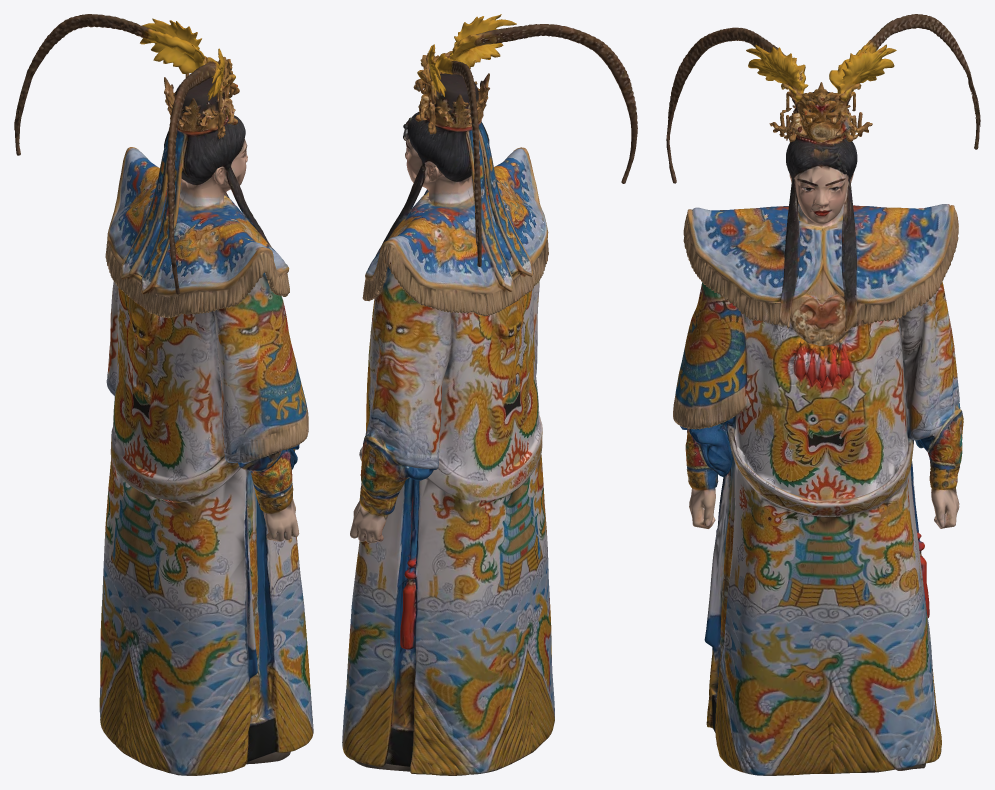
File: 张二世子.glb
The picture shows the model from 3 angles, left to right: view 1: azimuth 30°, elevation 25°; view 2: azimuth 150°, elevation 25°; view 3: azimuth 270°, elevation 25°; orthographic projection.
Parts seen in each view (by area): view 1: tripo_node_f7300494-4187-47e6-b751-40d155f9dbf2; view 2: tripo_node_f7300494-4187-47e6-b751-40d155f9dbf2; view 3: tripo_node_f7300494-4187-47e6-b751-40d155f9dbf2.
Boxes of the visible parts, x1,y1,x2,y2 form: tripo_node_f7300494-4187-47e6-b751-40d155f9dbf2: (14, 14, 313, 775); tripo_node_f7300494-4187-47e6-b751-40d155f9dbf2: (342, 14, 637, 775); tripo_node_f7300494-4187-47e6-b751-40d155f9dbf2: (666, 14, 980, 775).
Size of the model in its own units: 0.2688 by 0.9798 by 0.3941.
Materials: 1 (1 with a texture image).
